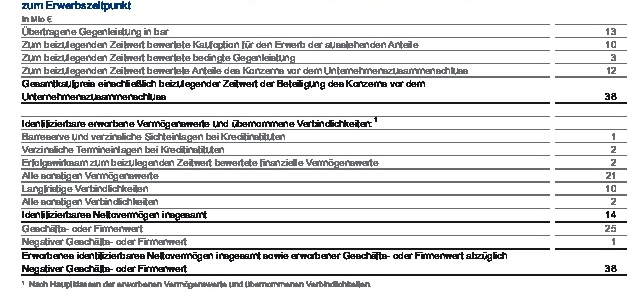table: (0, 0, 644, 292)
